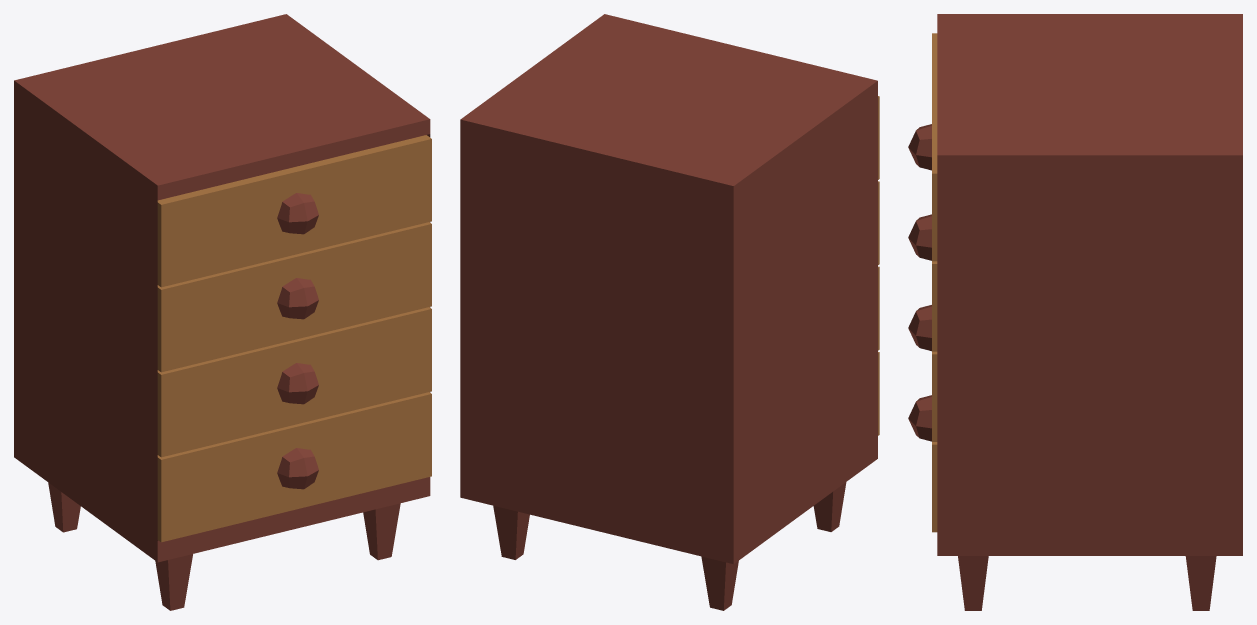
File: nightstand.glb
3 views of the same model, side by side, from view 1: azimuth 30°, elevation 25°; view 2: azimuth 150°, elevation 25°; view 3: azimuth 270°, elevation 25° (orthographic). The views are drawn at different scales.
Parts seen in each view (by area): view 1: Nightstand; view 2: Nightstand; view 3: Nightstand.
Boxes of the visible parts, box(x1,y1,x2,y2) form: Nightstand: box(14, 14, 431, 610); Nightstand: box(460, 14, 879, 610); Nightstand: box(908, 14, 1242, 610).
Size of the model in its own units: 0.5451 by 0.8433 by 0.5456.
Materials: 1 (1 with a texture image).
